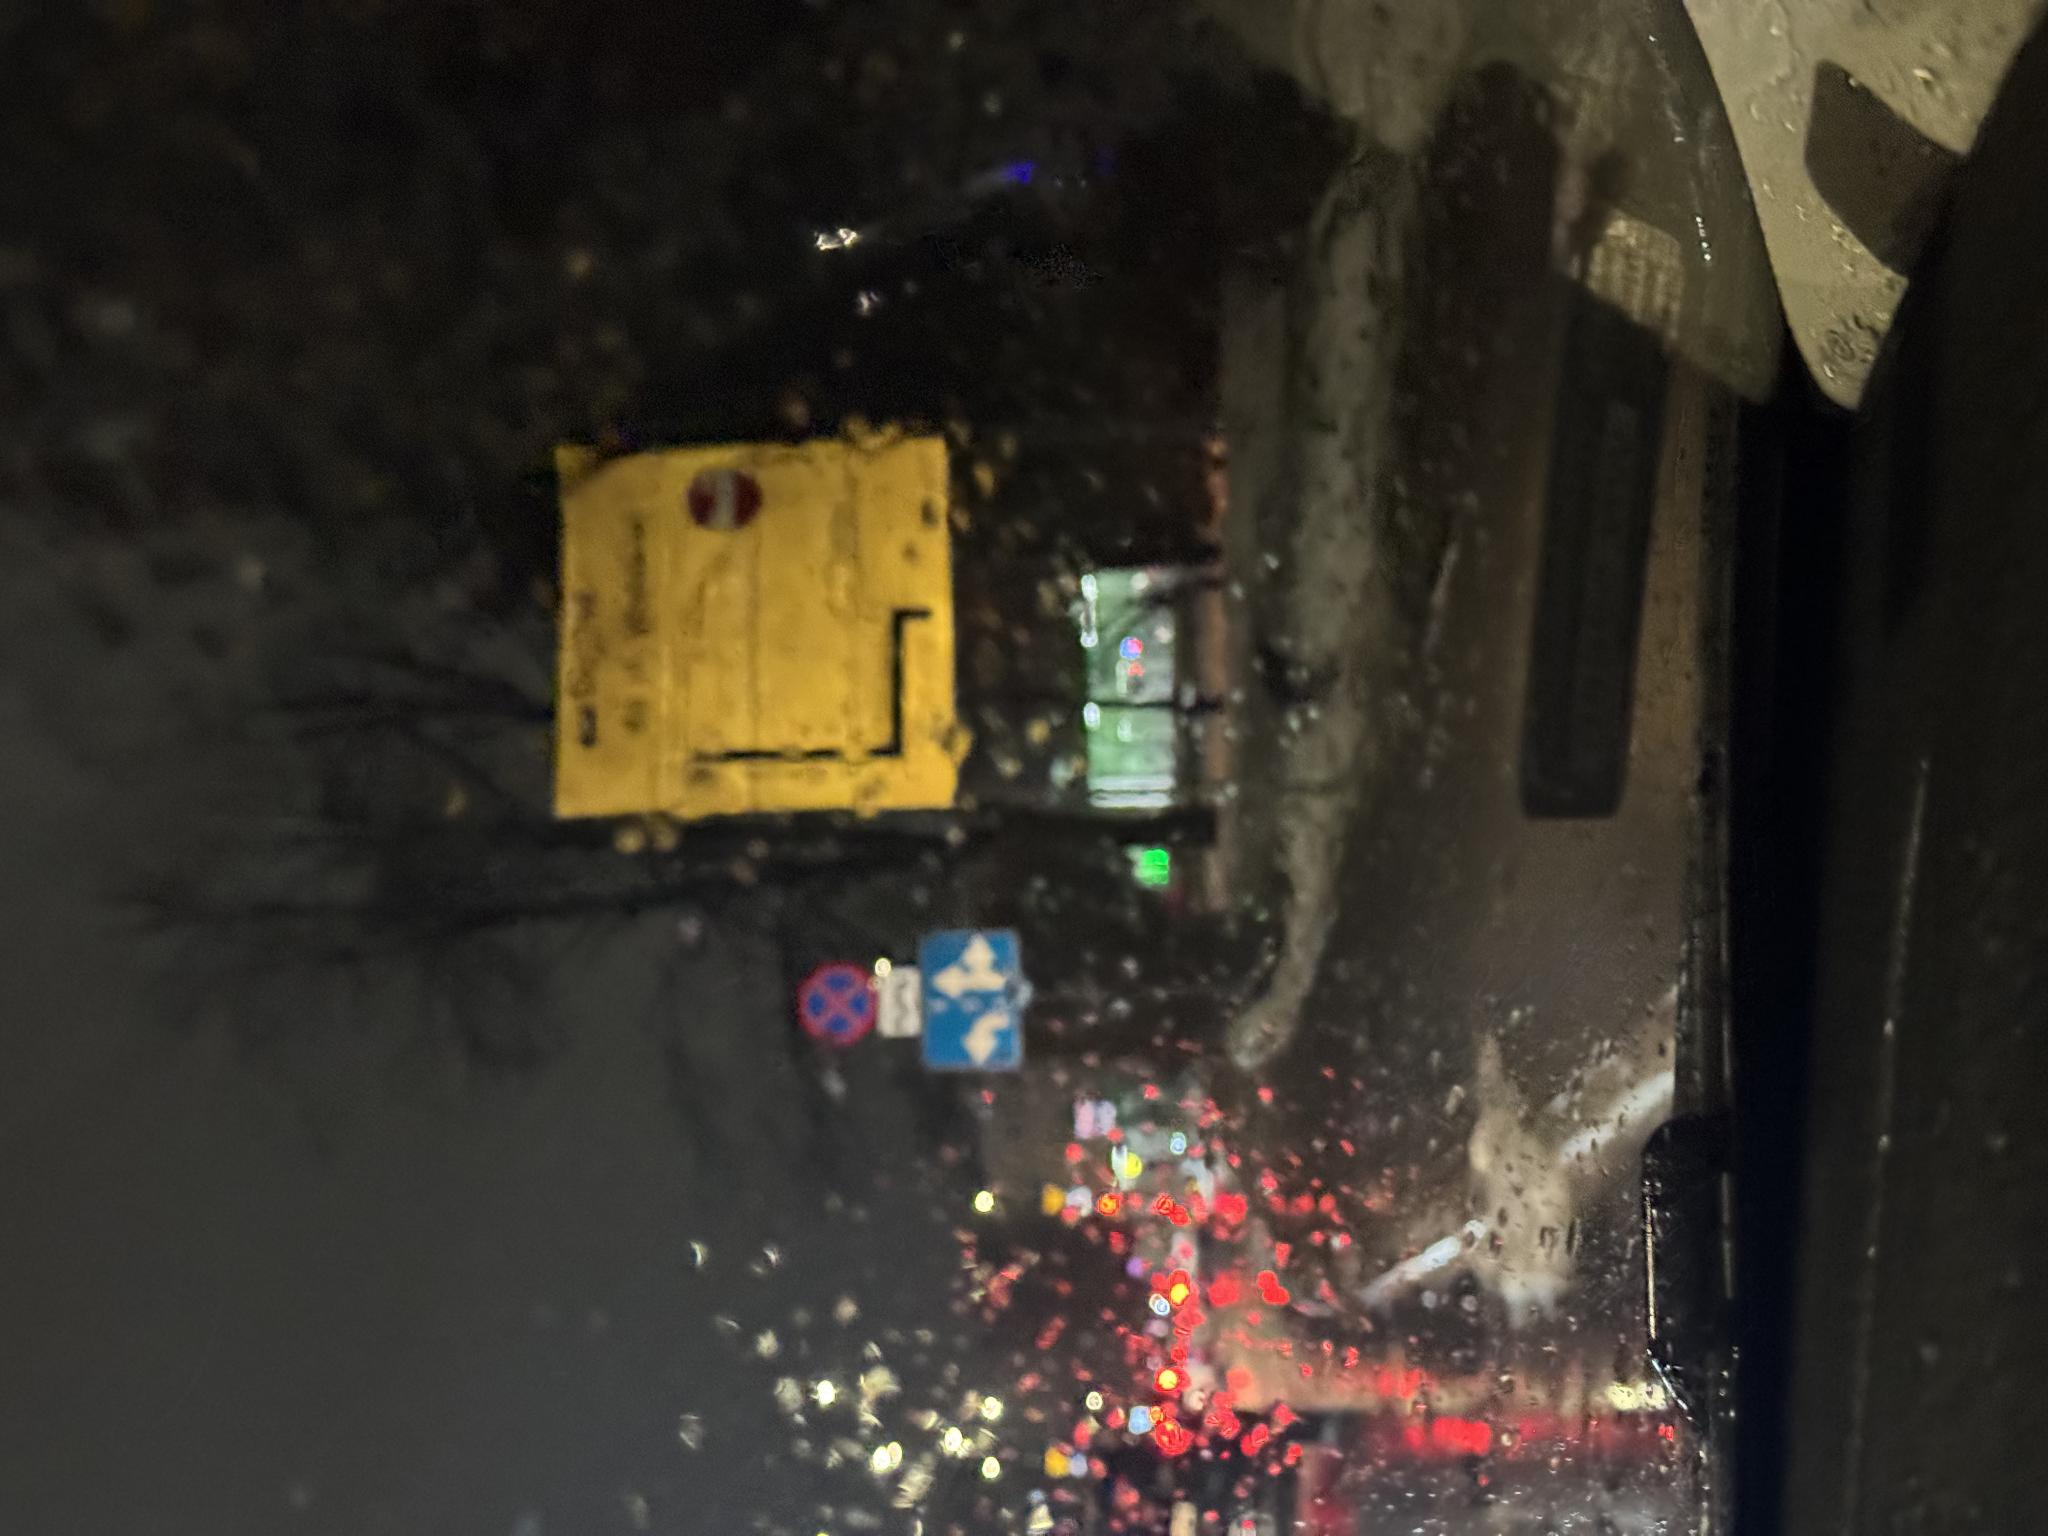other: (714, 552, 1103, 958)
prohibitory: (464, 923, 610, 1020), (489, 797, 576, 879)
